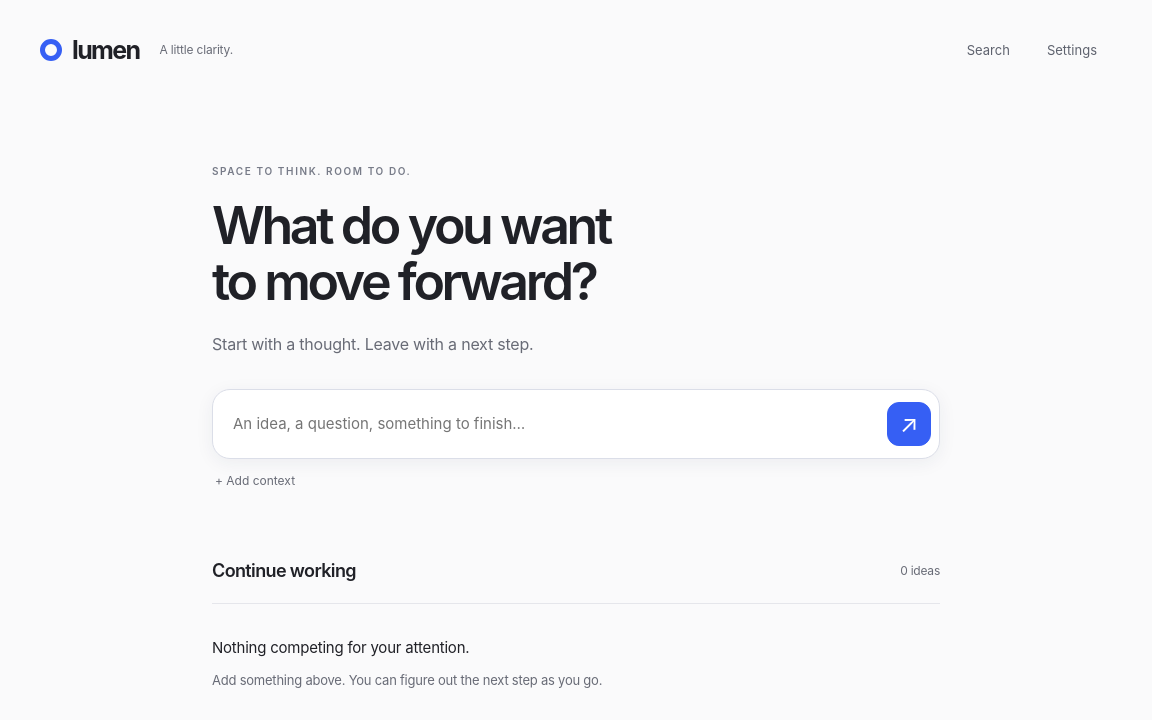
Test case: preserves a capture draft when storage rejects a write
Type "Keep my draft" into the field named "New idea" at (550, 424), box [221,398,879,450]
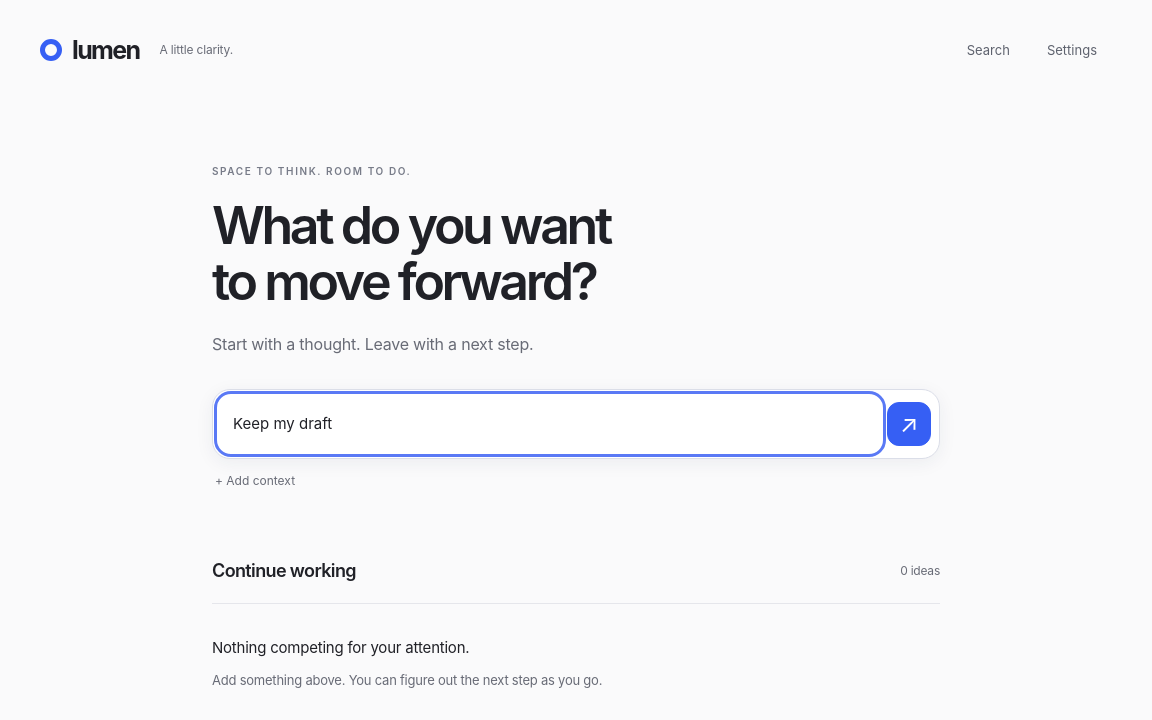
Click the button named "Add idea" at (909, 424), box [887,402,931,446]
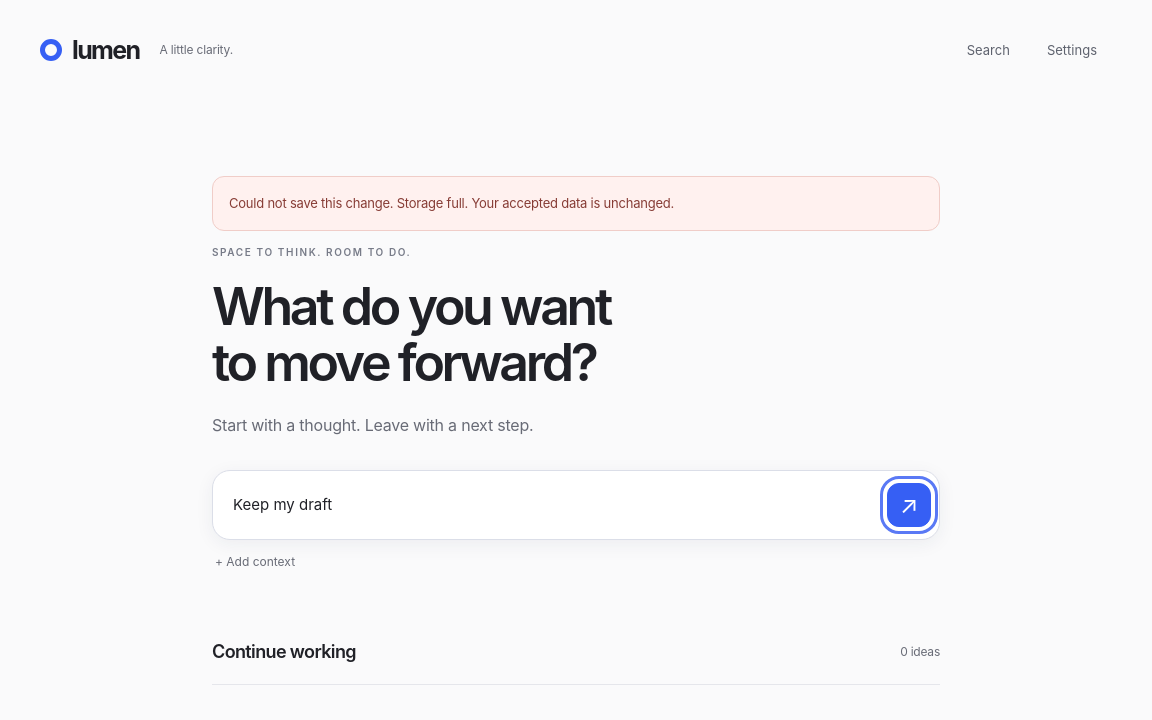
Expected: the message shows "Storage full", [229,195,674,211]
